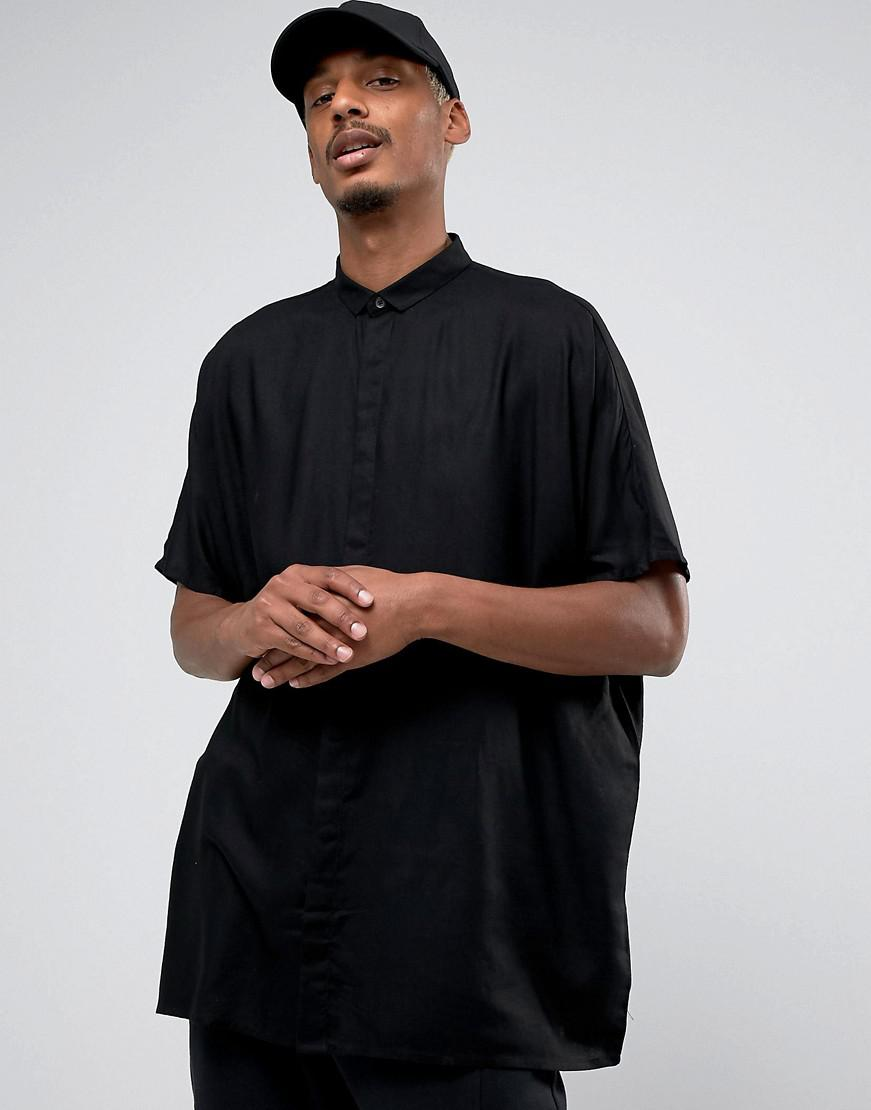teeshirt: (139, 232, 685, 1090)
